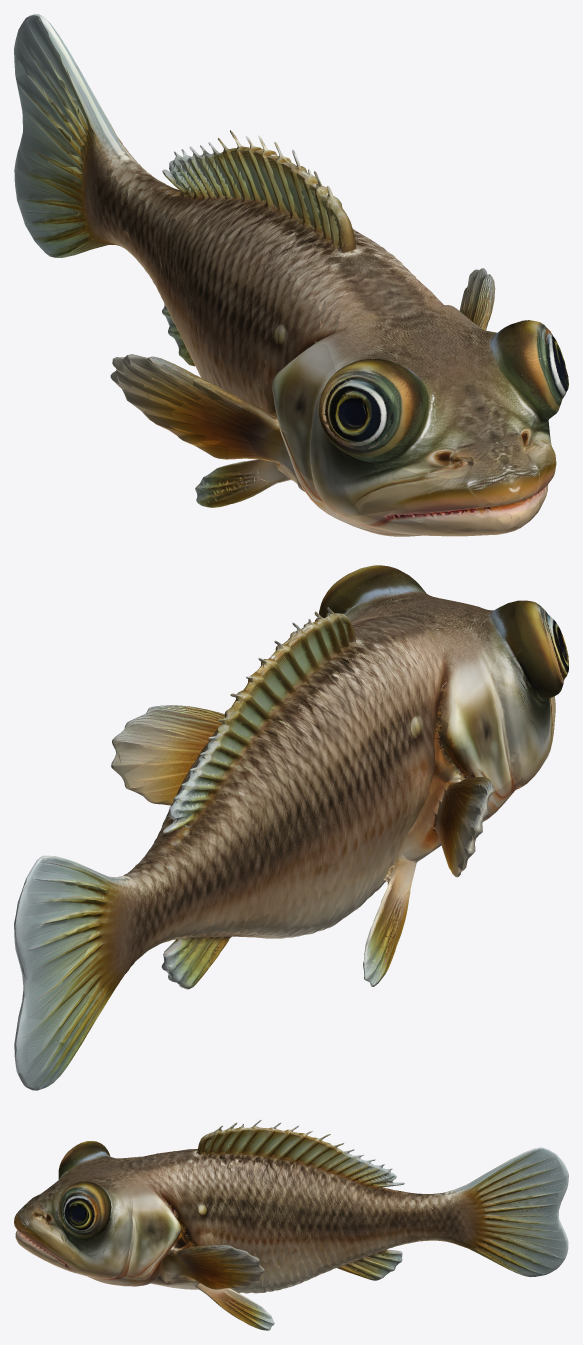
File: fish_bilge_blenny.glb
3 views of the same model, one above another, from view 1: azimuth 30°, elevation 25°; view 2: azimuth 150°, elevation 25°; view 3: azimuth 270°, elevation 25° (orthographic). The views are drawn at different scales.
Bounding box in the file's own units: 0.8057 × 0.7073 × 1.9.
Materials: 1 (1 with a texture image).
